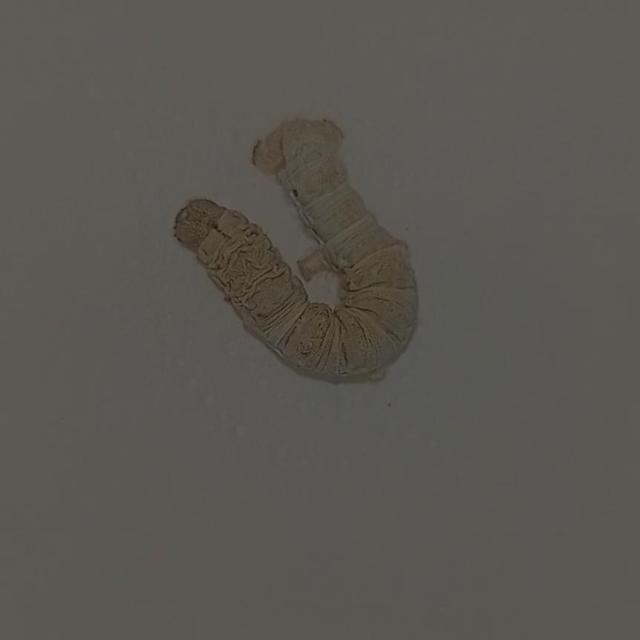Healthy: (145, 86, 463, 410)
